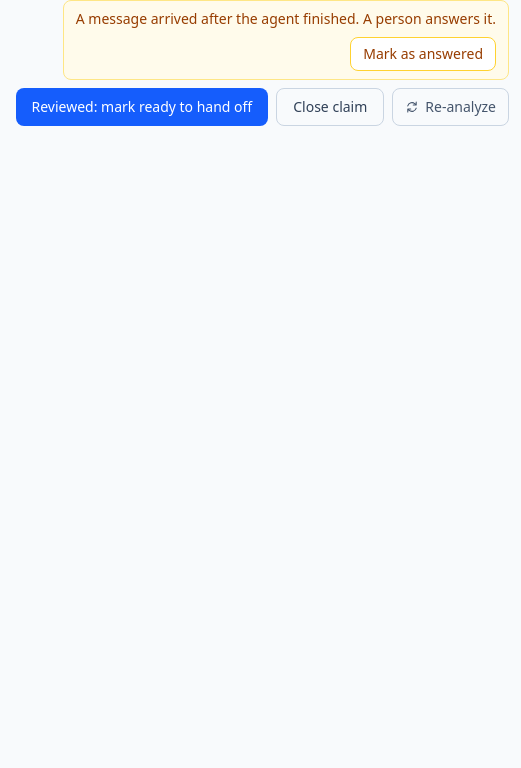
Test: «Para responder» en el detalle › en en-US, con actualizado=true, manda cuándo lo vio y avisa «Marked as answered.»
The image size is (521, 768).
Click the button "Mark as answered" at (423, 54), box [350,37,496,71]
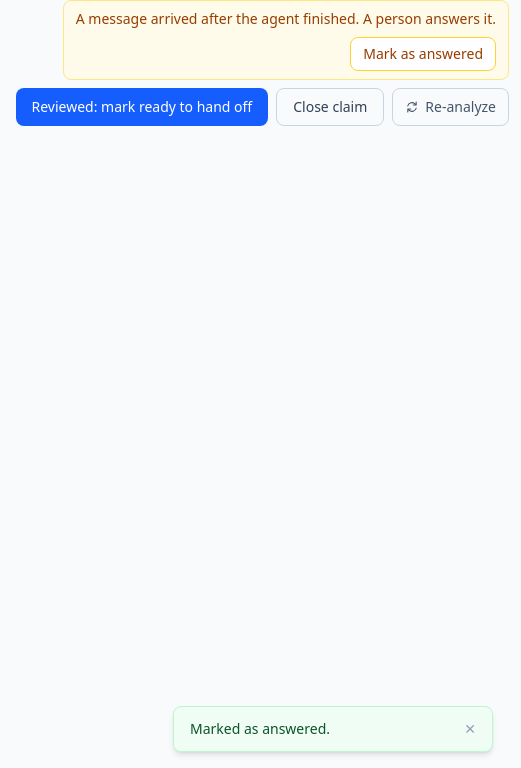
Expected: the text "Marked as answered." is shown, [190,719,330,739]
